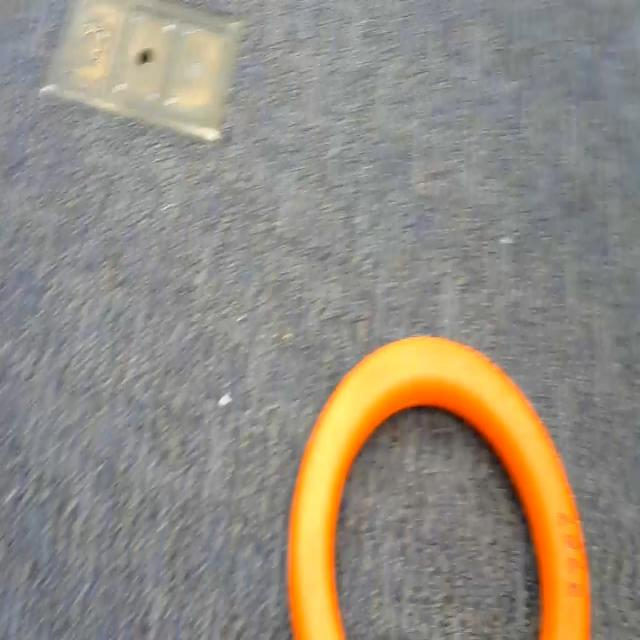note: (270, 284, 640, 640)
